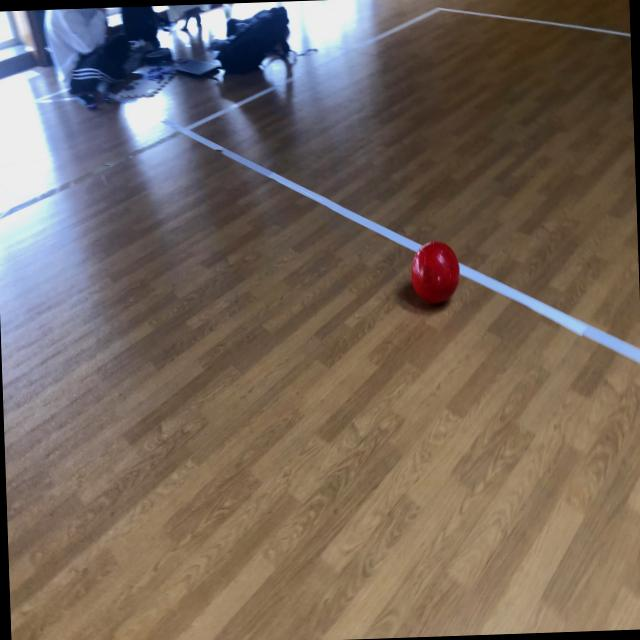red_ball: (408, 239, 461, 307)
